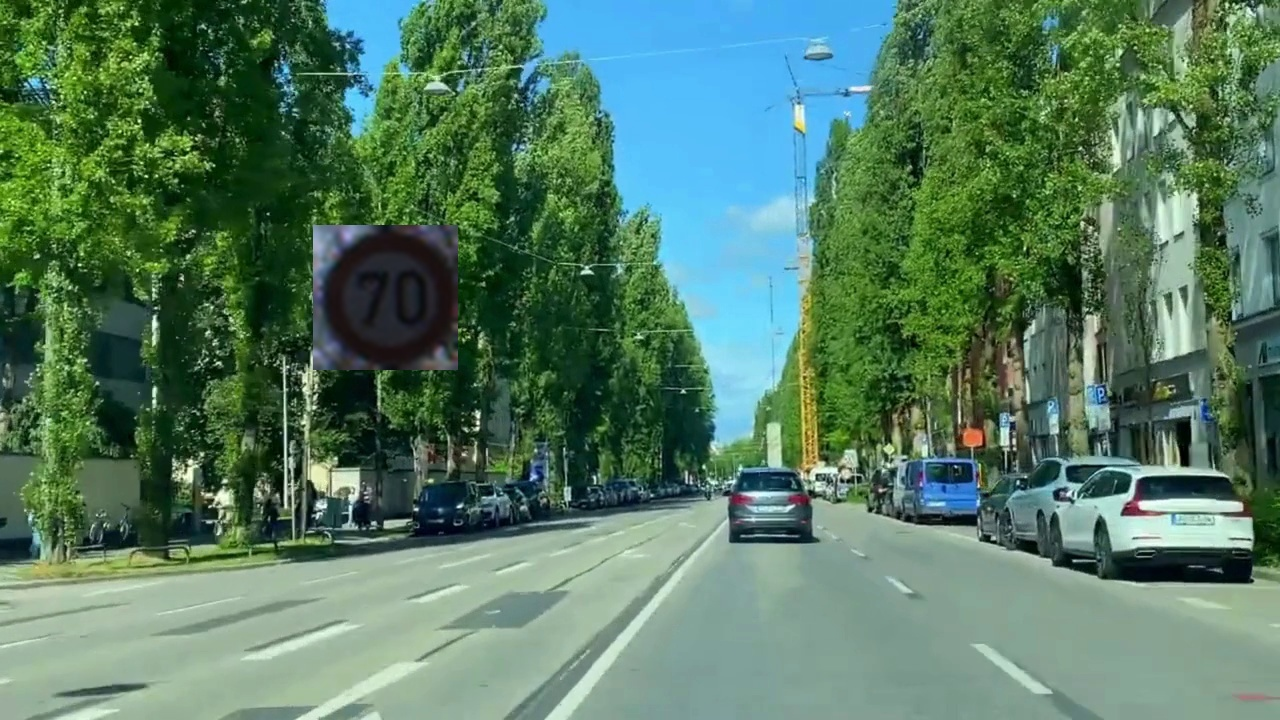Speed 70: (313, 225, 458, 370)
